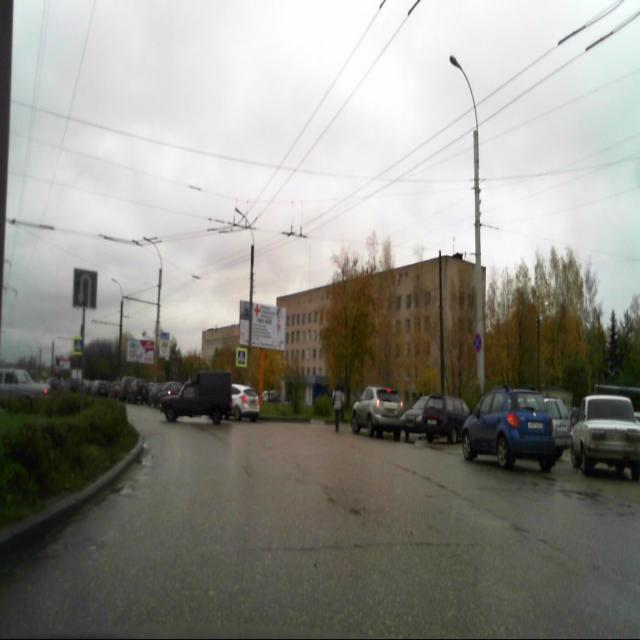road sign: (72, 267, 98, 314), (236, 348, 248, 368)
